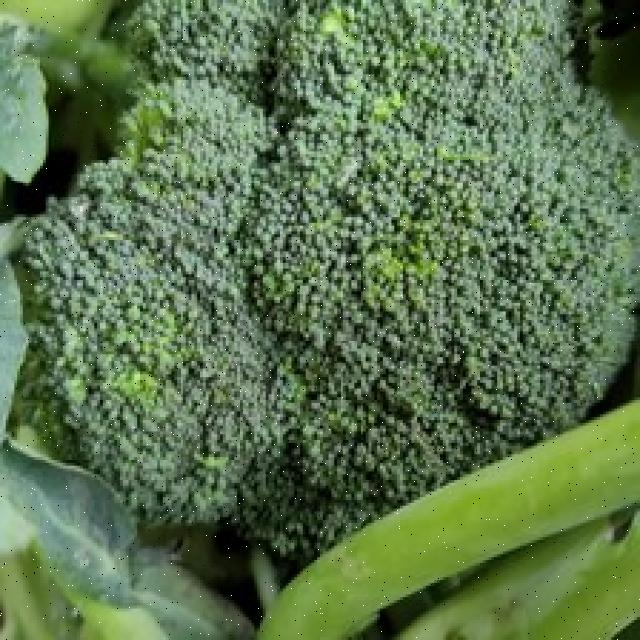Broccoli: (24, 0, 632, 564), (24, 0, 632, 563)
